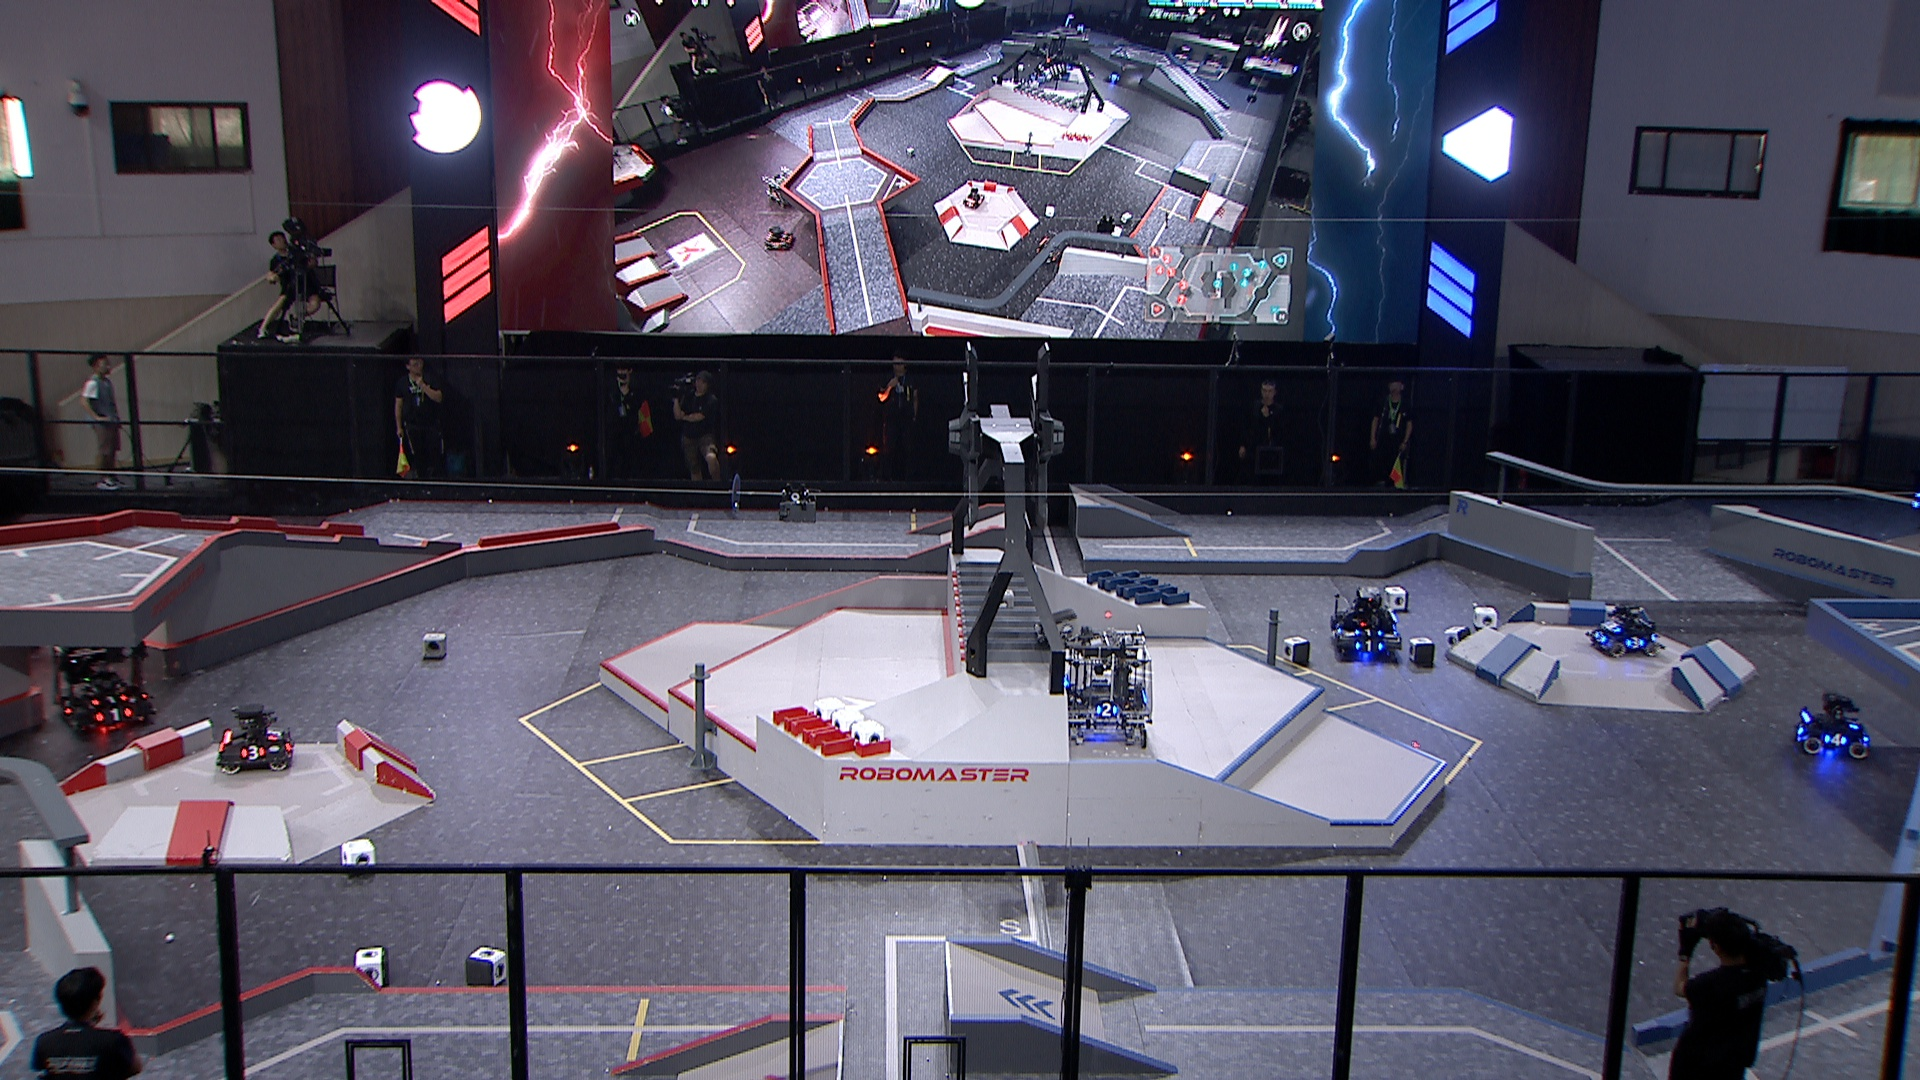armor: (95, 707, 135, 723), (1822, 731, 1851, 749), (91, 692, 131, 705), (239, 742, 266, 761), (1353, 640, 1385, 655), (1095, 702, 1120, 717), (1625, 637, 1648, 651), (1604, 621, 1625, 636), (1592, 628, 1609, 645), (1354, 628, 1382, 638), (266, 728, 284, 744), (284, 736, 295, 754), (1329, 622, 1344, 637)
car: (47, 624, 160, 737), (1060, 624, 1155, 749), (1328, 585, 1404, 662), (218, 703, 299, 773), (1793, 694, 1876, 761), (1584, 603, 1667, 662)
ignore: (761, 164, 796, 207), (761, 225, 798, 252), (1035, 237, 1062, 264), (961, 186, 986, 211), (1105, 69, 1122, 84), (1062, 15, 1079, 29), (1073, 25, 1087, 36)
